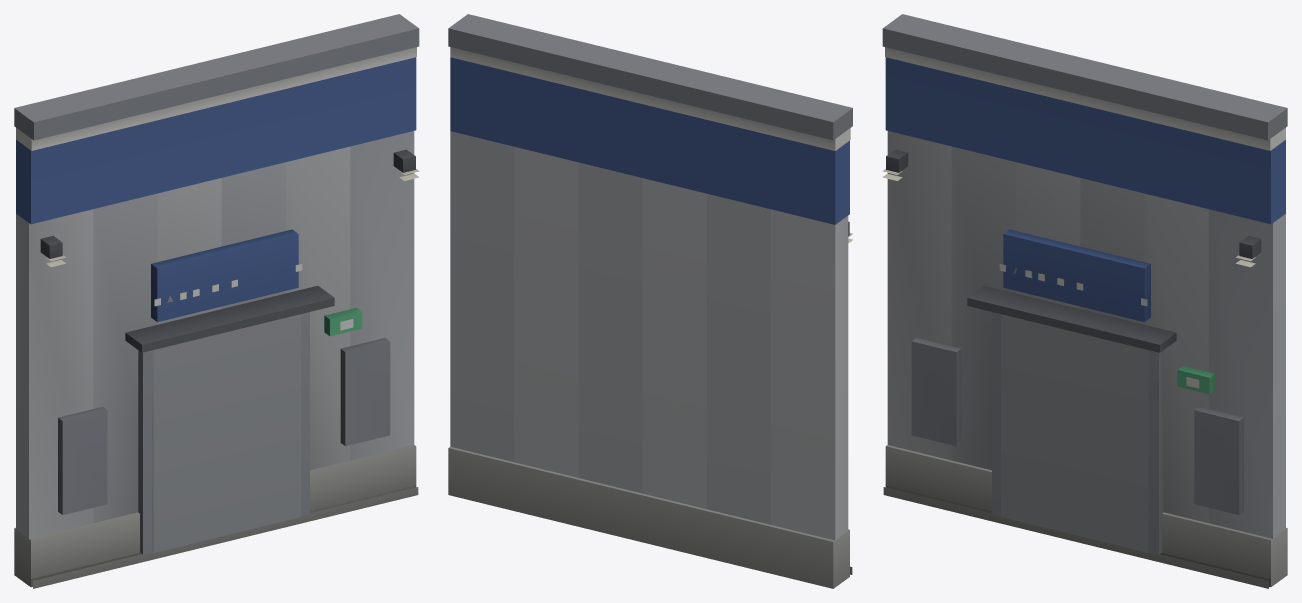
Rendered from sback_gate.lod.glb.
3 renders of one model, left to right at view 1: azimuth 30°, elevation 25°; view 2: azimuth 150°, elevation 25°; view 3: azimuth 330°, elevation 25°, orthographic.
Visible parts, largest first — view 1: sback_gate; view 2: sback_gate; view 3: sback_gate.
Boxes of the visible parts, x1,y1,x2,y2 form: sback_gate: (14, 14, 419, 588); sback_gate: (448, 14, 852, 588); sback_gate: (882, 14, 1287, 588).
Size of the model in its own units: 6 by 6.95 by 0.85.
